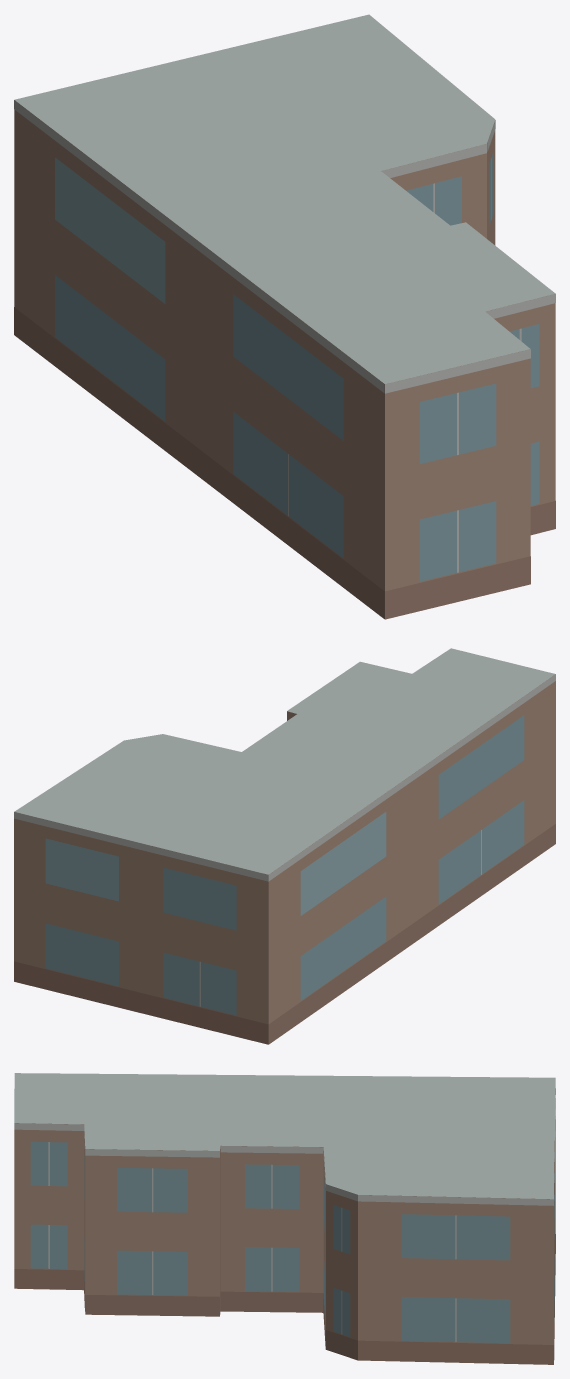
Rendered from survey-upis-32871540.glb.
3 views of the same model, one above another, from view 1: azimuth 30°, elevation 25°; view 2: azimuth 150°, elevation 25°; view 3: azimuth 270°, elevation 25° (orthographic). The views are drawn at different scales.
Parts seen in each view (by area): view 1: survey-upis-32871540.tmp; view 2: survey-upis-32871540.tmp; view 3: survey-upis-32871540.tmp.
Part boxes in pixels (<box>): survey-upis-32871540.tmp: <box>14,14,555,619</box>; survey-upis-32871540.tmp: <box>14,648,555,1044</box>; survey-upis-32871540.tmp: <box>14,1073,555,1364</box>.
Bounding box in the file's own units: 9.97 × 6.1 × 18.09.
